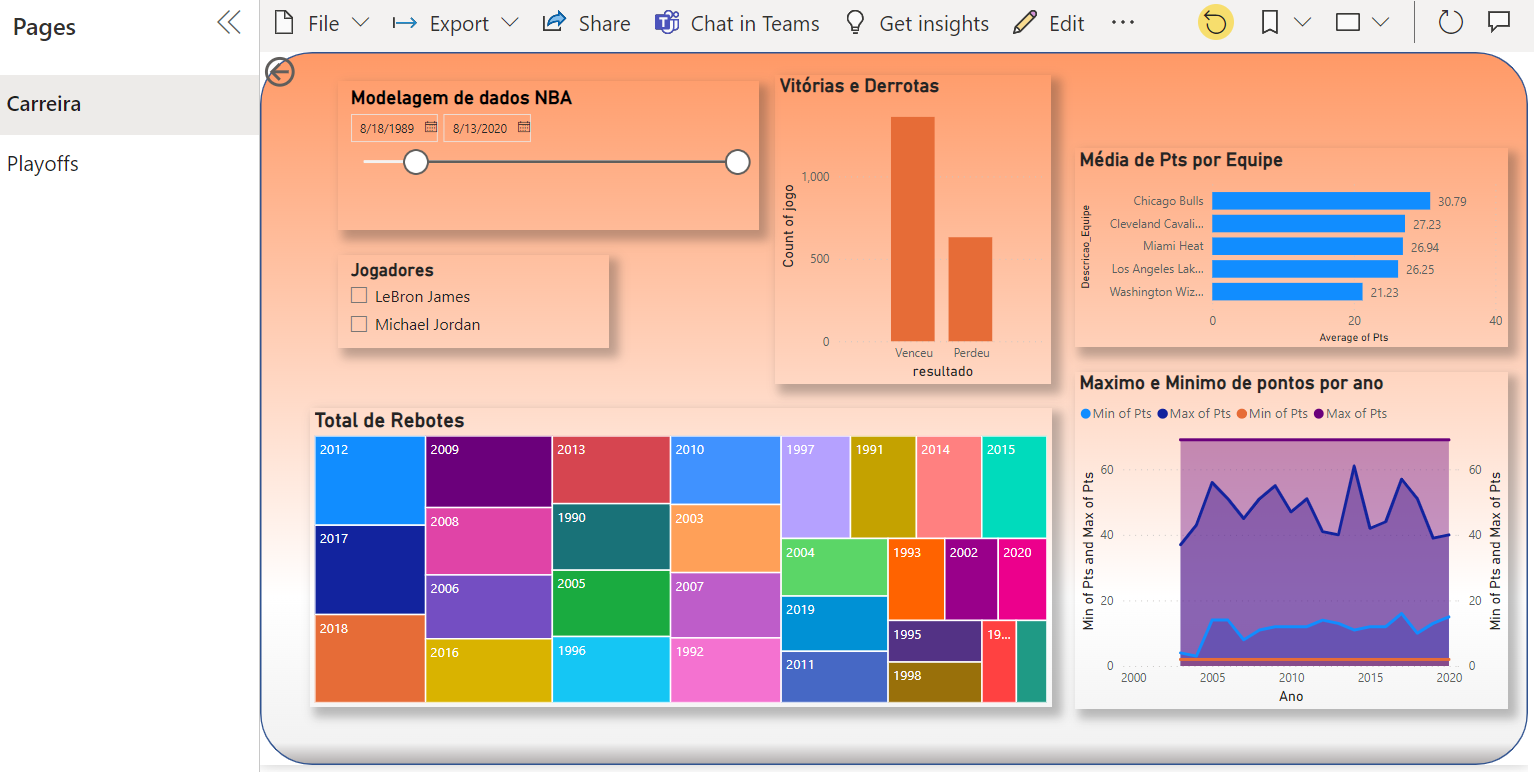

What the dashboard file says about the page in this screenshot:
{"tool":"powerbi","page":{"name":"Carreira","canvas":[1280,720],"ordinal":0},"visuals":[{"type":"actionButton","box":[0,0,100,40],"z":0},{"type":"areaChart","title":"Maximo e Minimo de pontos por ano ","fields":{"Y":["Carreira_LeBron James.Pts","Sum(Carreira_LeBron James.Pts)1"],"Category":["Carreira_LeBron James.data_jogo.Variation.Hierarquia de datas.Ano","Carreira_LeBron James.data_jogo.Variation.Hierarquia de datas.Trimestre","Carreira_LeBron James.data_jogo.Variation.Hierarquia de datas.Mês","Carreira_LeBron James.data_jogo.Variation.Hierarquia de datas.Dia","Carreira_Michael Jordan (2).data_jogo.Variation.Hierarquia de datas.Ano","Carreira_Michael Jordan (2).data_jogo.Variation.Hierarquia de datas.Trimestre","Carreira_Michael Jordan (2).data_jogo.Variation.Hierarquia de datas.Mês","Carreira_Michael Jordan (2).data_jogo.Variation.Hierarquia de datas.Dia"],"Y2":["Carreira_Michael Jordan (2).Pts","Carreira_Michael Jordan (2).Pts"]},"box":[823.1,323.3,437.3,340.5],"z":1000},{"type":"columnChart","title":"Vitórias e Derrotas","fields":{"Category":["Append_Carreira_Mj_Lj.resultado"],"Y":["Append_Carreira_Mj_Lj.jogo"]},"box":[520.1,23.4,279.6,312.4],"z":2000},{"type":"barChart","title":"Média de Pts por Equipe","fields":{"Category":["equipes.Descricao_Equipe"],"Y":["Append_Carreira_Mj_Lj.Pts"]},"box":[823.1,96.8,437.3,201.5],"z":3000},{"type":"slicer","fields":{"Values":["Append_Carreira_Mj_Lj.data_jogo"]},"box":[78.1,28.1,424.8,151.5],"z":4000},{"type":"slicer","fields":{"Values":["Jogadores.nome"]},"box":[78.1,204.6,273.3,93.7],"z":5000},{"type":"treemap","title":"Total de Rebotes ","fields":{"Group":["Append_Carreira_Mj_Lj.data_jogo.Variation.Hierarquia de datas.Ano","Append_Carreira_Mj_Lj.data_jogo.Variation.Hierarquia de datas.Trimestre","Append_Carreira_Mj_Lj.data_jogo.Variation.Hierarquia de datas.Mês","Append_Carreira_Mj_Lj.data_jogo.Variation.Hierarquia de datas.Dia"],"Values":["Append_Carreira_Mj_Lj.Reb_Tot"]},"box":[50,359.2,749.7,303],"z":6000}]}

Visuals, with their boxes on the page's 1280x720 design canvas (x1, y1, x2, y2). These are canvas units, not pixel positions in the 1534x772 screenshot, which may show the page scaled, cropped or inside an application window:
actionButton: <region>0, 0, 100, 40</region>
"Maximo e Minimo de pontos por ano " areaChart: <region>823, 323, 1260, 664</region>
"Vitórias e Derrotas" columnChart: <region>520, 23, 800, 336</region>
"Média de Pts por Equipe" barChart: <region>823, 97, 1260, 298</region>
slicer - Append_Carreira_Mj_Lj.data_jogo: <region>78, 28, 503, 180</region>
slicer - Jogadores.nome: <region>78, 205, 351, 298</region>
"Total de Rebotes " treemap: <region>50, 359, 800, 662</region>
